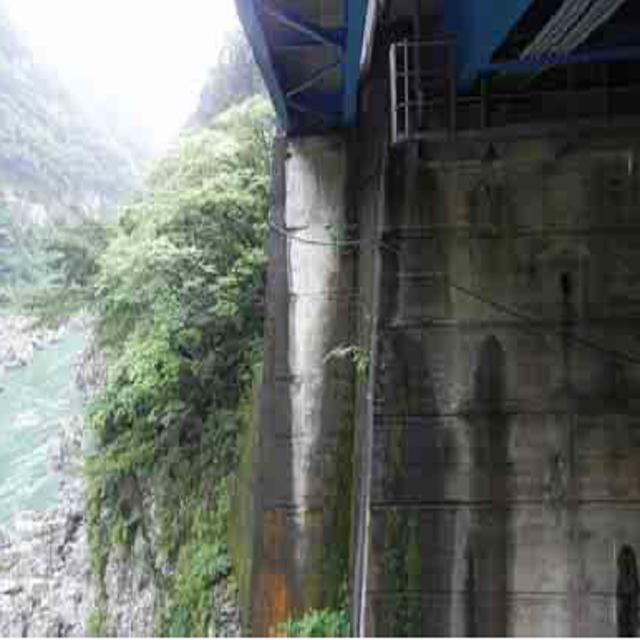leakage: (328, 160, 512, 640)
